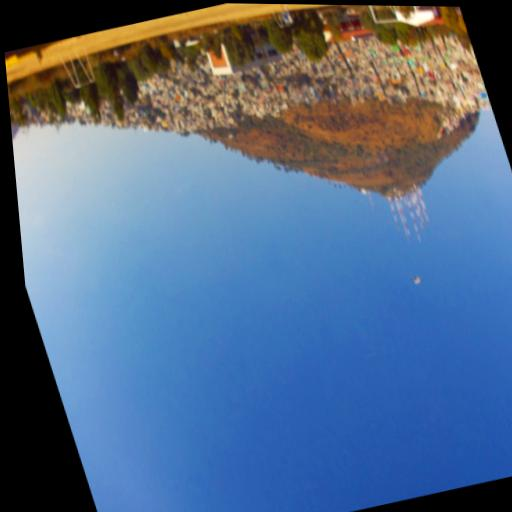drones: (404, 267, 431, 296)
